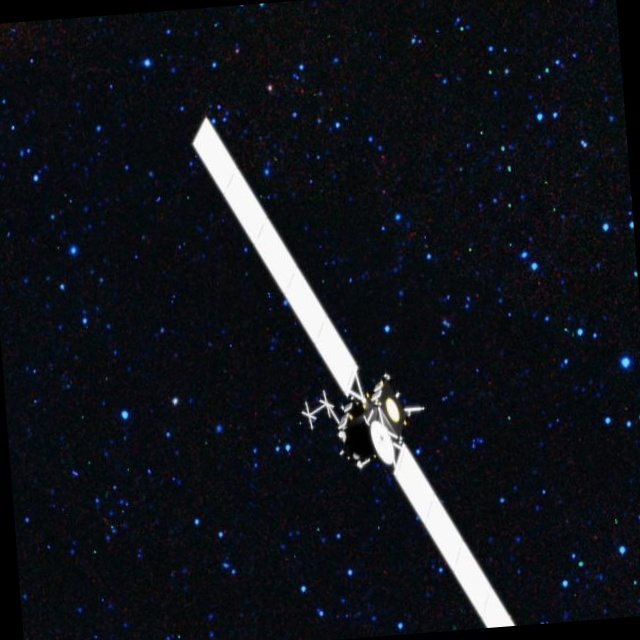medium_debris: (147, 93, 539, 640)
